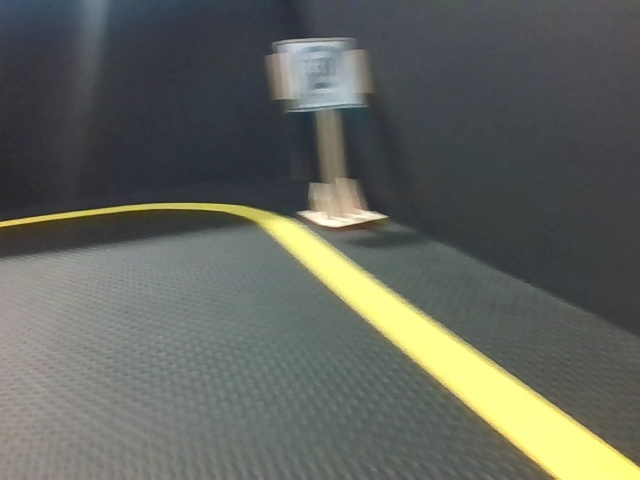no30: (282, 38, 361, 108)
